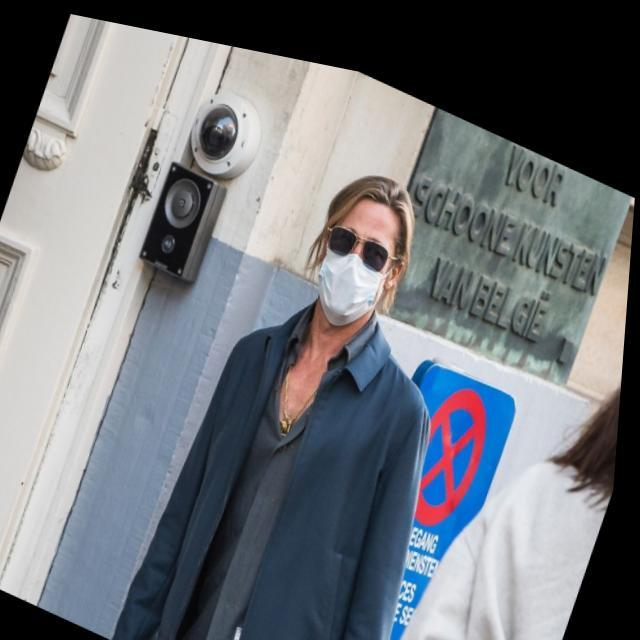Nonhelmet: (301, 172, 419, 329)
